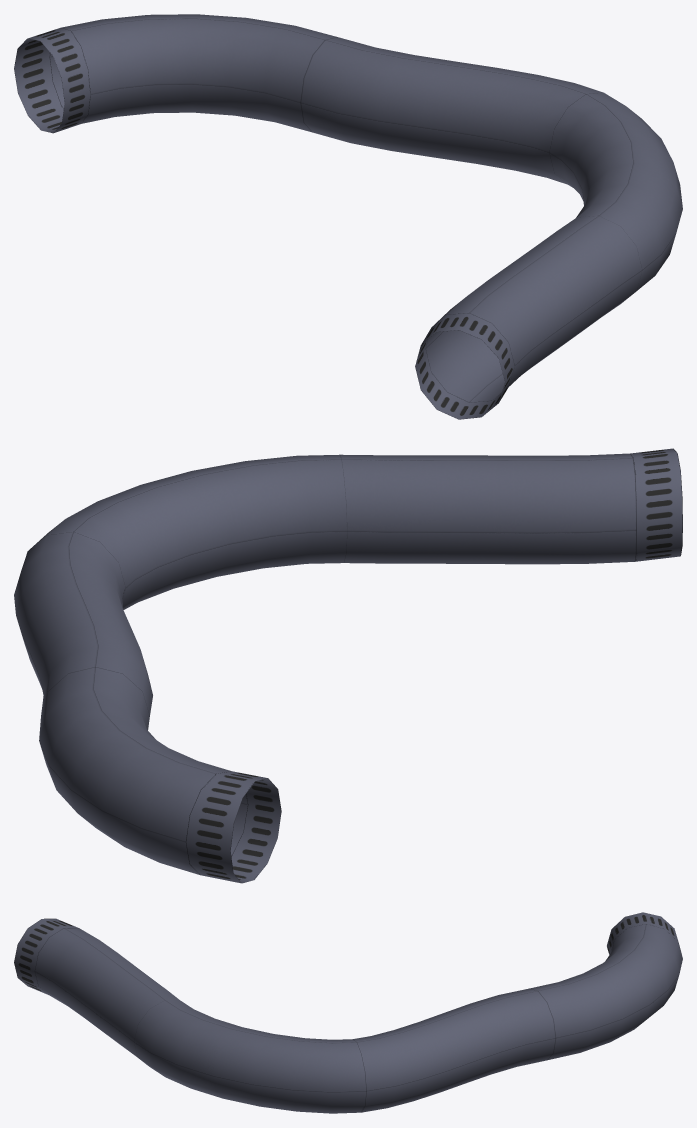
The model's file is Flexible_Hoses_02.FBX.
The picture shows the model from 3 angles, top to bottom: view 1: azimuth 30°, elevation 25°; view 2: azimuth 150°, elevation 25°; view 3: azimuth 270°, elevation 25°; orthographic projection. The views are drawn at different scales.
Parts seen in each view (by area): view 1: Flexible_Hoses_02; view 2: Flexible_Hoses_02; view 3: Flexible_Hoses_02.
Boxes of the visible parts, x1=… form: Flexible_Hoses_02: x1=14, y1=14, x2=682, y2=419; Flexible_Hoses_02: x1=14, y1=448, x2=682, y2=883; Flexible_Hoses_02: x1=14, y1=912, x2=682, y2=1113.
Size of the model in its own units: 4.76 by 1.01 by 9.03.
